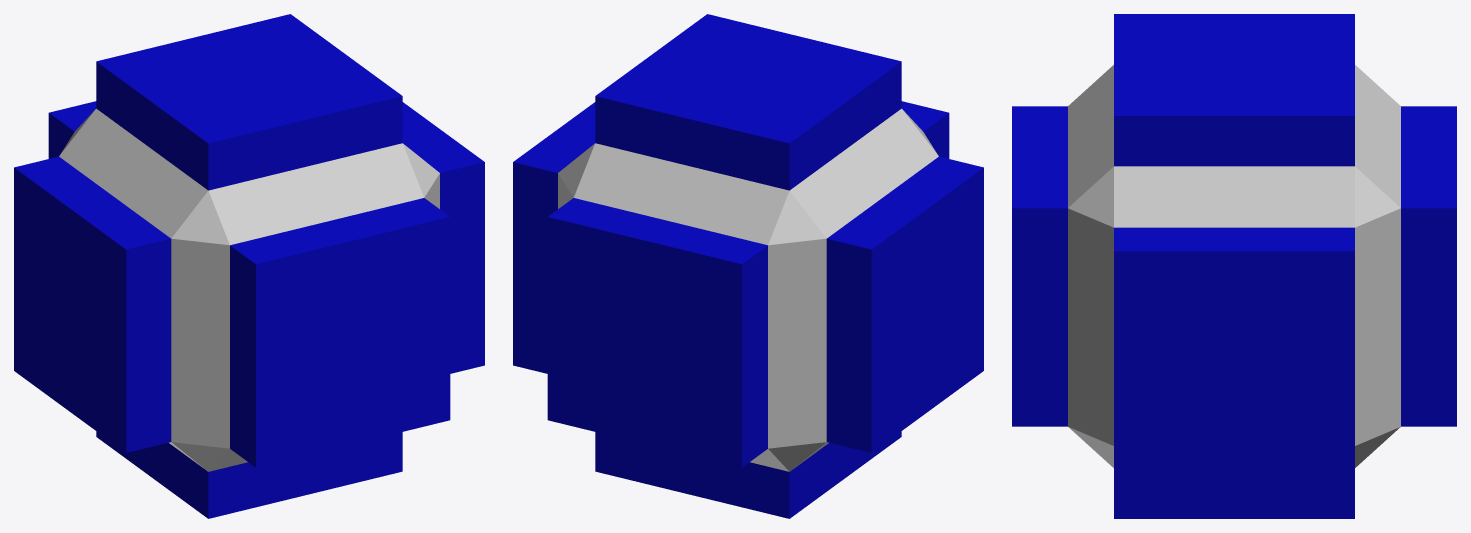
File: Hub.obj
3 renders of one model, left to right at view 1: azimuth 30°, elevation 25°; view 2: azimuth 150°, elevation 25°; view 3: azimuth 270°, elevation 25°, orthographic. The views are drawn at different scales.
Visible parts, largest first — view 1: Cube.004_Cube.005; view 2: Cube.004_Cube.005; view 3: Cube.004_Cube.005.
Part boxes in pixels (left/top/right/bottom): Cube.004_Cube.005: left=14, top=14, right=484, bottom=518; Cube.004_Cube.005: left=513, top=14, right=983, bottom=518; Cube.004_Cube.005: left=1012, top=14, right=1456, bottom=518.
Size of the model in its own units: 1 by 1 by 1.
